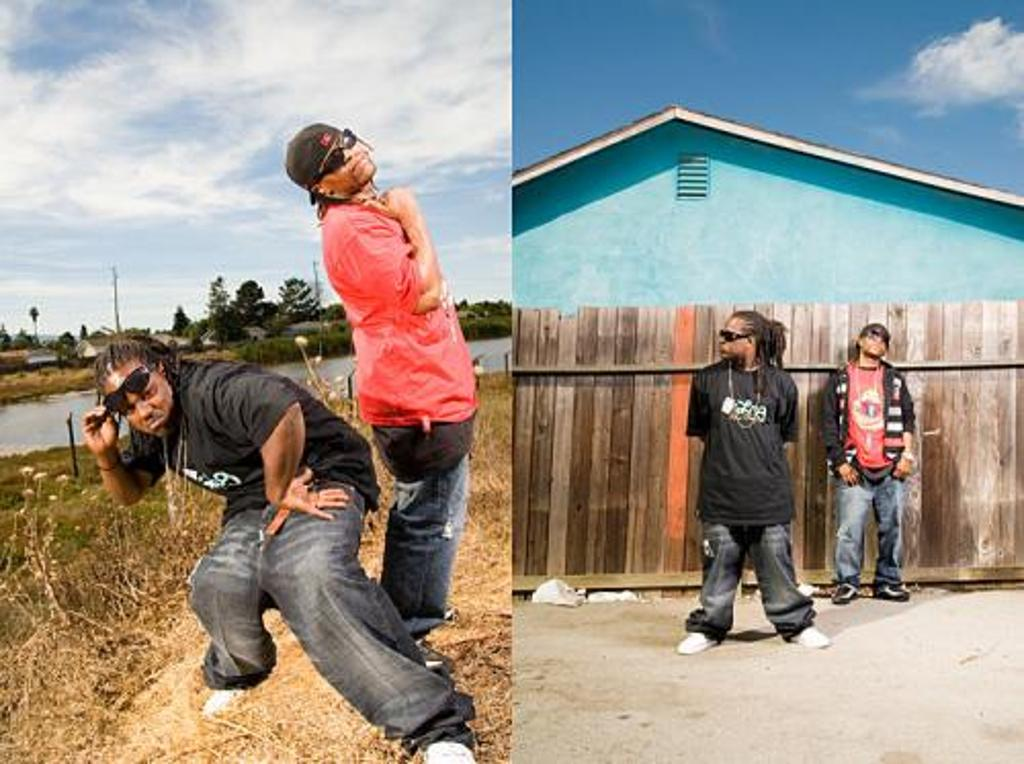face: (103, 364, 175, 437), (306, 134, 375, 195), (718, 317, 755, 360), (862, 327, 887, 357)
